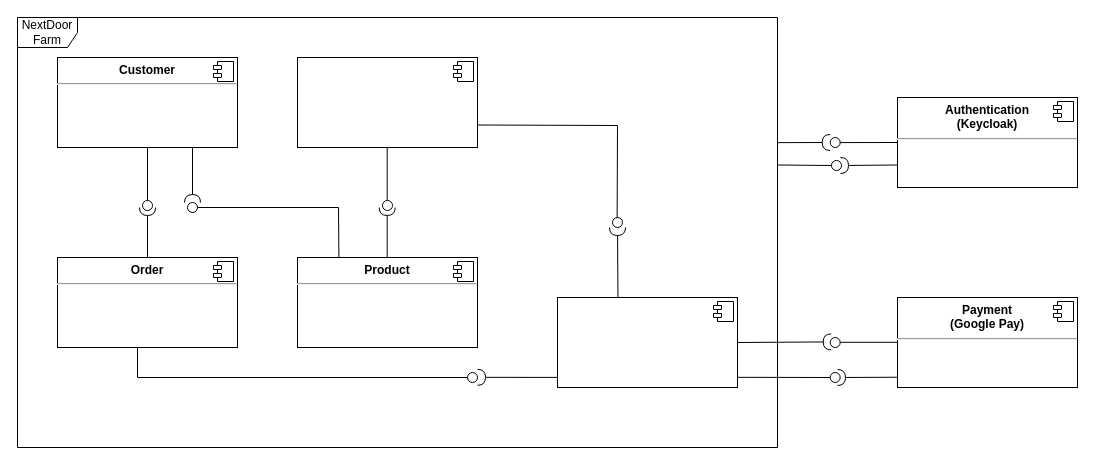
The diagram is 1095 pixels wide and 465 high, and some of its shapes have lost their labels. Here are the shapes that lost their labels. From the top down, the box of each, then its label:
(296, 56, 478, 148): Farmer
(556, 296, 738, 388): Payment
